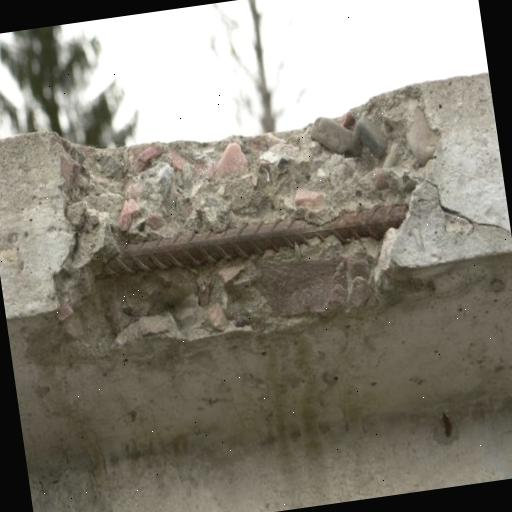spalling: (39, 100, 400, 356)
